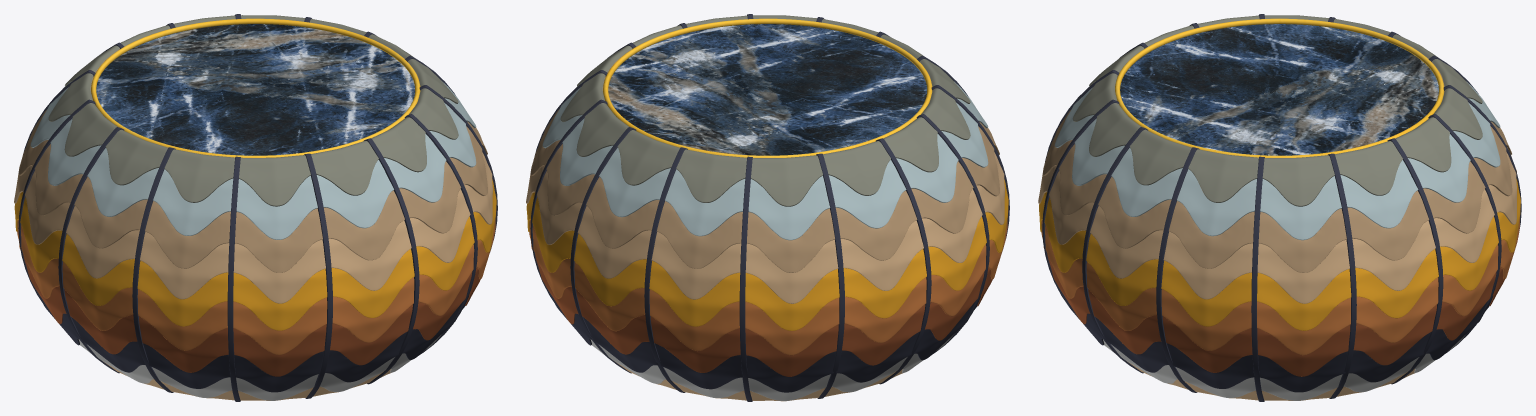
File: SLN_Fruits_of_Paradise_SMALL.glb
3 views of the same model, side by side, from view 1: azimuth 30°, elevation 25°; view 2: azimuth 150°, elevation 25°; view 3: azimuth 270°, elevation 25° (orthographic).
Parts seen in each view (by area): view 1: Fruits_of_Paradise_SMALL; view 2: Fruits_of_Paradise_SMALL; view 3: Fruits_of_Paradise_SMALL.
Part boxes in pixels (x1,y1,x2,y2): Fruits_of_Paradise_SMALL: (14,14,497,401); Fruits_of_Paradise_SMALL: (526,14,1009,401); Fruits_of_Paradise_SMALL: (1038,14,1521,401).
Bounding box in the file's own units: 0.5694 × 0.3186 × 0.571.
11 materials, 2 textured.
